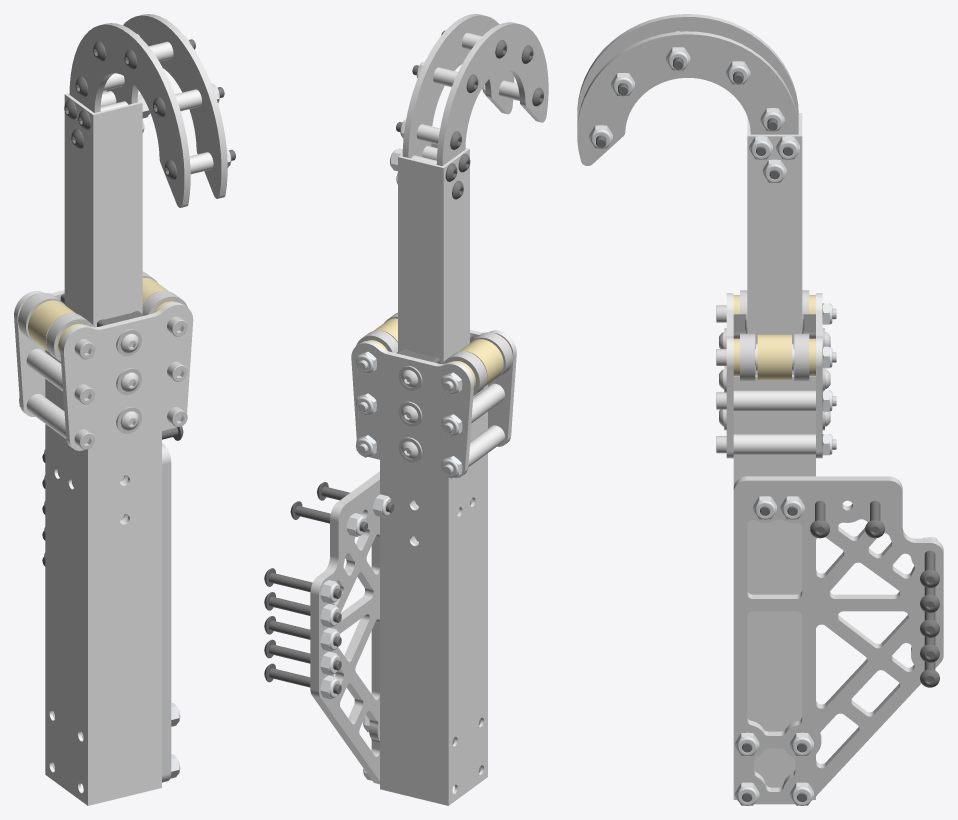
3 renders of one model, left to right at view 1: azimuth 30°, elevation 25°; view 2: azimuth 150°, elevation 25°; view 3: azimuth 270°, elevation 25°, orthographic. The views are drawn at different scales.
Parts seen in each view (by area): view 1: W25-CL-BT001, W25-CL-BT002, am-4644 Climber In A Box 1.5IN Bearing Plate_1 (×2), W25-CL-P003 (×2), W25-CL-P002, 8mm ID Bearing (22mm OD, 7mm WD, Shielded) (×3), #10 Aluminum Spacer (1-1/2" L 3/8" OD) (×2), Constant Force Spring 0.625" WD 30" LN, W25-CL-S001 (×2); view 2: W25-CL-BT001, W25-CL-BT002, W25-CL-P002, am-4644 Climber In A Box 1.5IN Bearing Plate_1 (×2), W25-CL-P003 (×2), #10-32 x 1-1/2" L BHCS (Steel, Black Oxide) (×6), #10 Aluminum Spacer (1-1/2" L 3/8" OD) (×2), 8mm ID Bearing (22mm OD, 7mm WD, Shielded) (×2), Constant Force Spring 0.625" WD 30" LN; view 3: W25-CL-P002, W25-CL-BT001, W25-CL-P003 (×2), W25-CL-BT002, #10 Aluminum Spacer (1-1/2" L 3/8" OD) (×2), am-4644 Climber In A Box 1.5IN Bearing Plate_1 (×2), Constant Force Spring 0.625" WD 30" LN, 8mm ID Bearing (22mm OD, 7mm WD, Shielded) (×2).
Boxes of the visible parts, box(x1,y1,x2,y2) form: W25-CL-BT001: box(45, 349, 161, 805); W25-CL-BT002: box(64, 90, 142, 519); am-4644 Climber In A Box 1.5IN Bearing Plate_1 (×2): box(14, 290, 193, 450); W25-CL-P003 (×2): box(69, 14, 227, 207); W25-CL-P002: box(162, 443, 171, 782); 8mm ID Bearing (22mm OD, 7mm WD, Shielded) (×3): box(18, 291, 187, 361); #10 Aluminum Spacer (1-1/2" L 3/8" OD) (×2): box(26, 348, 66, 438); Constant Force Spring 0.625" WD 30" LN: box(28, 300, 76, 351); W25-CL-S001 (×2): box(175, 89, 213, 174); W25-CL-BT001: box(380, 384, 487, 805); W25-CL-BT002: box(398, 143, 469, 541); W25-CL-P002: box(310, 471, 379, 784); am-4644 Climber In A Box 1.5IN Bearing Plate_1 (×2): box(351, 329, 516, 477); W25-CL-P003 (×2): box(402, 14, 548, 166); #10-32 x 1-1/2" L BHCS (Steel, Black Oxide) (×6): box(264, 501, 367, 694); #10 Aluminum Spacer (1-1/2" L 3/8" OD) (×2): box(468, 383, 504, 466); 8mm ID Bearing (22mm OD, 7mm WD, Shielded) (×2): box(443, 332, 512, 395); Constant Force Spring 0.625" WD 30" LN: box(459, 339, 503, 386); W25-CL-P002: box(733, 476, 943, 804); W25-CL-BT001: box(733, 375, 815, 799); W25-CL-P003 (×2): box(577, 14, 798, 165); W25-CL-BT002: box(747, 113, 802, 375); #10 Aluminum Spacer (1-1/2" L 3/8" OD) (×2): box(733, 390, 815, 454); am-4644 Climber In A Box 1.5IN Bearing Plate_1 (×2): box(726, 293, 822, 458); Constant Force Spring 0.625" WD 30" LN: box(757, 334, 791, 380); 8mm ID Bearing (22mm OD, 7mm WD, Shielded) (×2): box(740, 333, 809, 381).
Size of the model in its own units: 0.0865 by 0.3869 by 0.1694.
